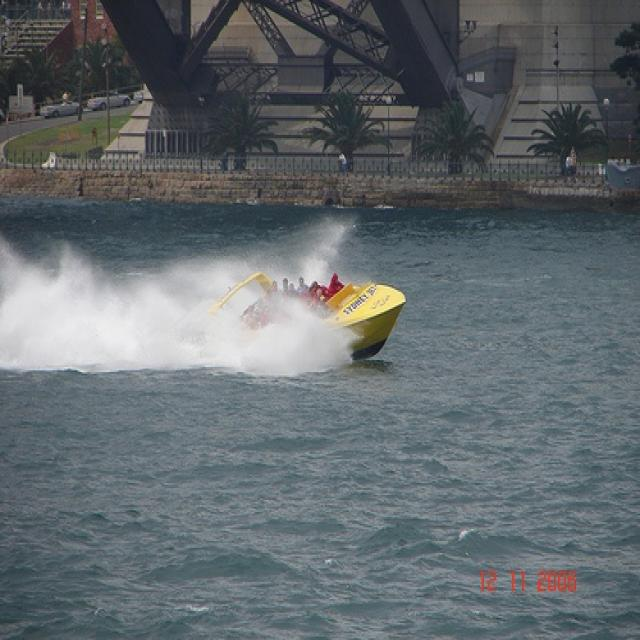boat: (208, 259, 424, 362)
car: (86, 86, 130, 114), (37, 96, 86, 120)
